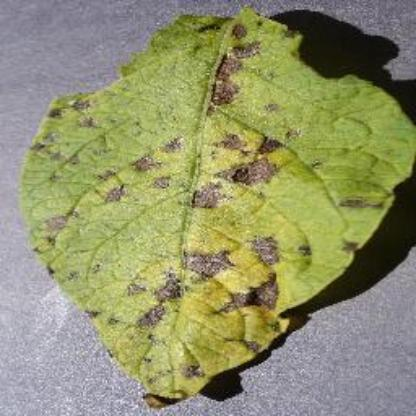Early-Blight: (21, 4, 416, 386)
